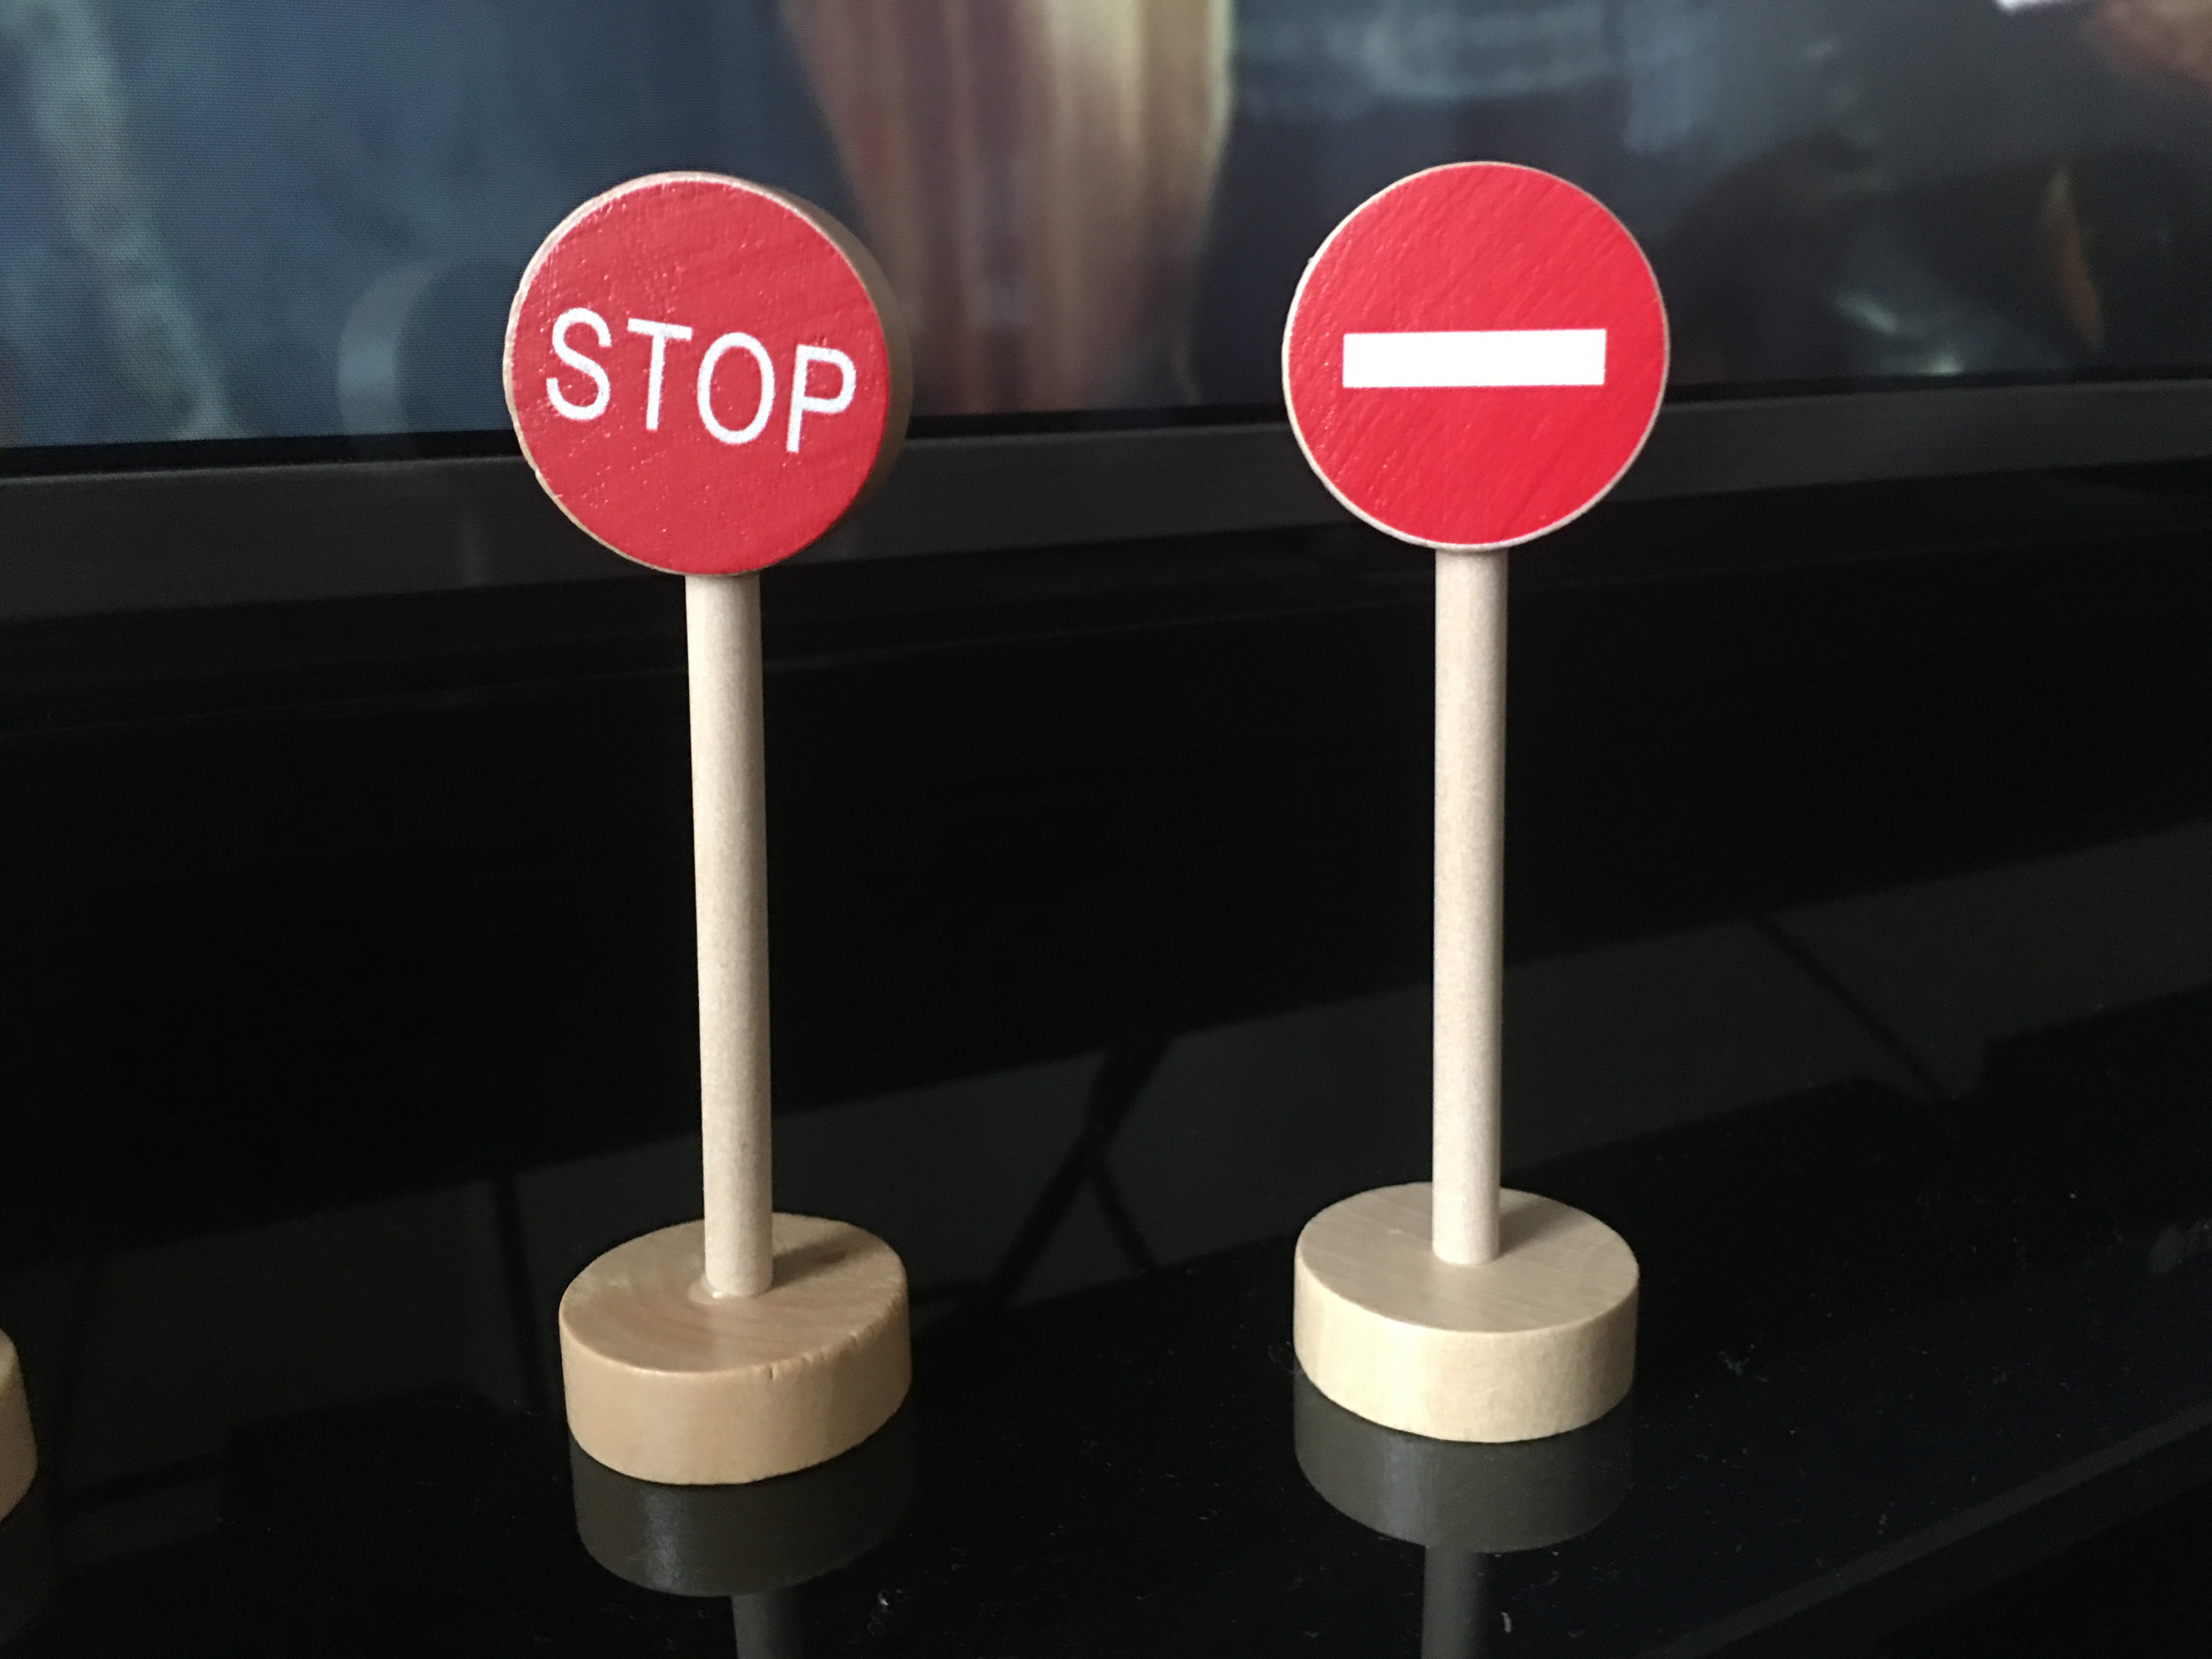Traffic_Sign_No_Entry: (1285, 166, 1672, 552)
Traffic_Sign_Stop: (507, 193, 899, 568)
